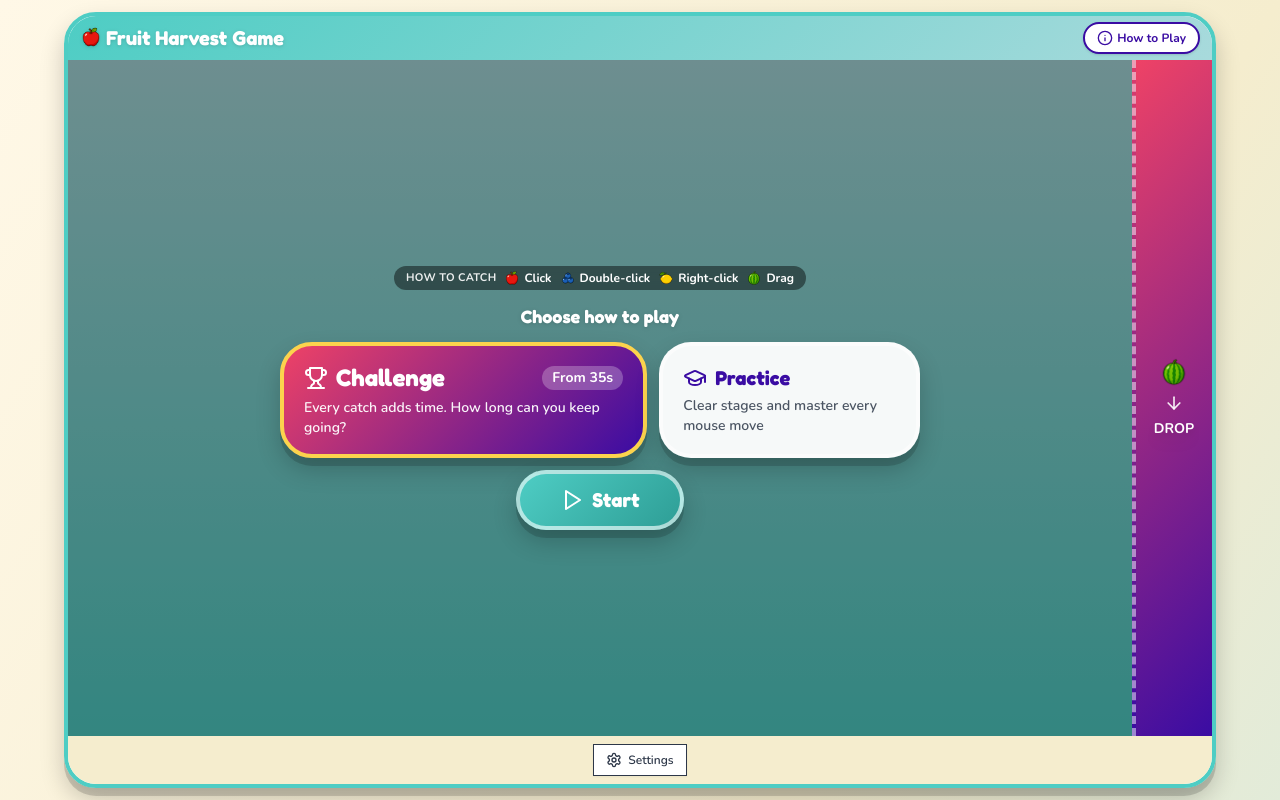
Scenario: FruitHarvestGame Integration Tests › ゲームの開始と進行 › 開始ボタンでゲームが始まる
Click the button "Start" at [600, 500], box top-left (516, 470), bottom-right (684, 530)
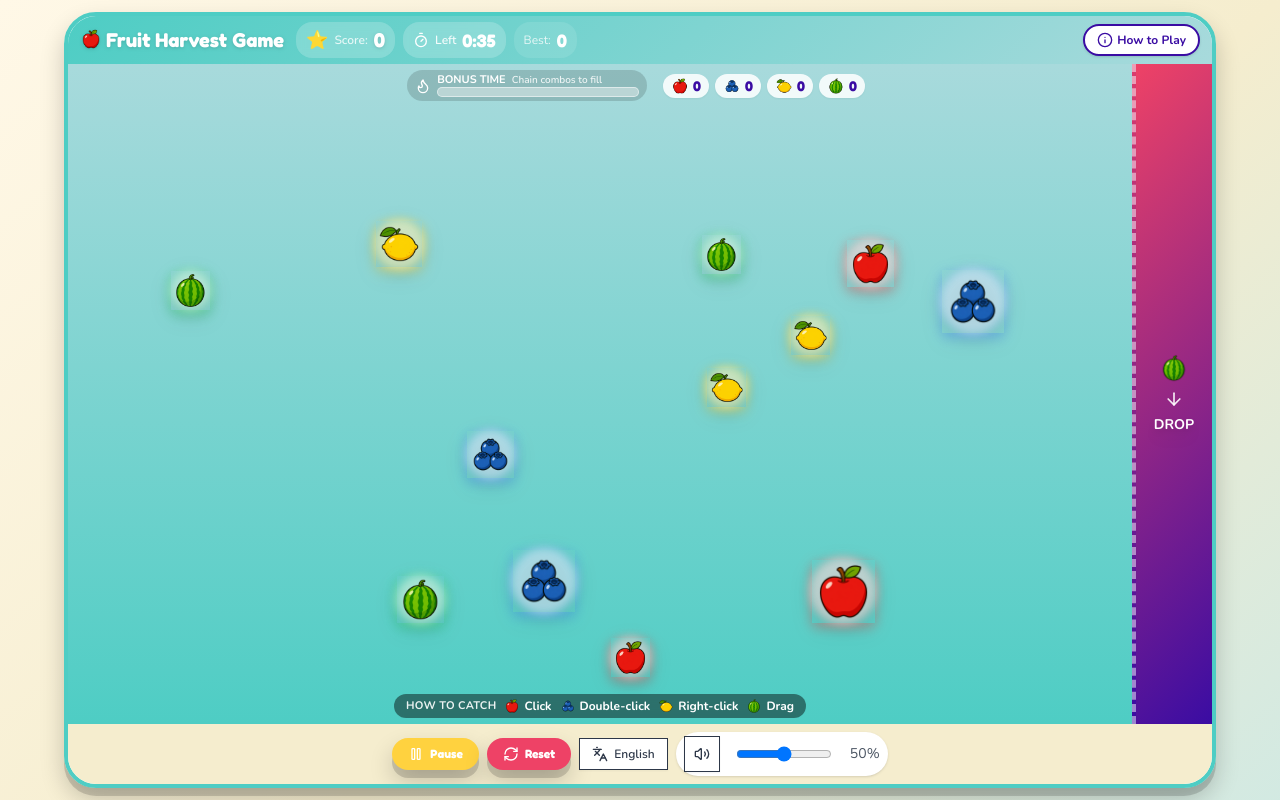
Result: the button "Pause" is shown at top-left (392, 738), bottom-right (479, 770)
